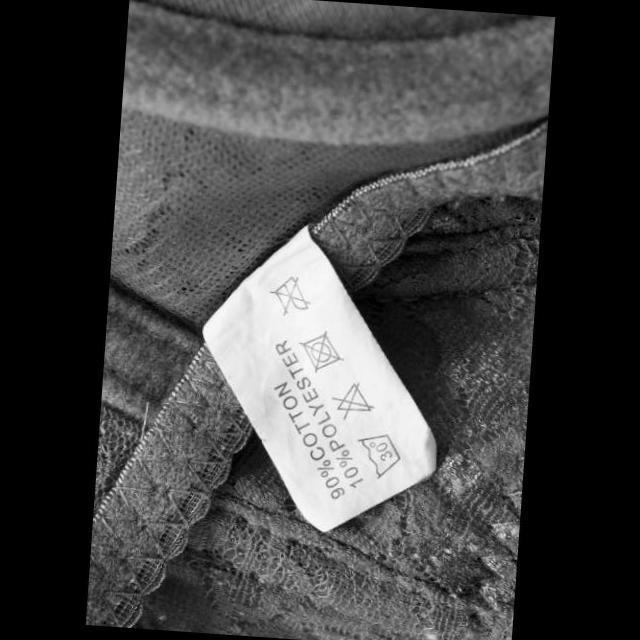30C: (353, 426, 405, 481)
DN_bleach: (328, 376, 378, 424)
DN_iron: (264, 269, 318, 321)
DN_tumble_dry: (294, 324, 348, 376)
